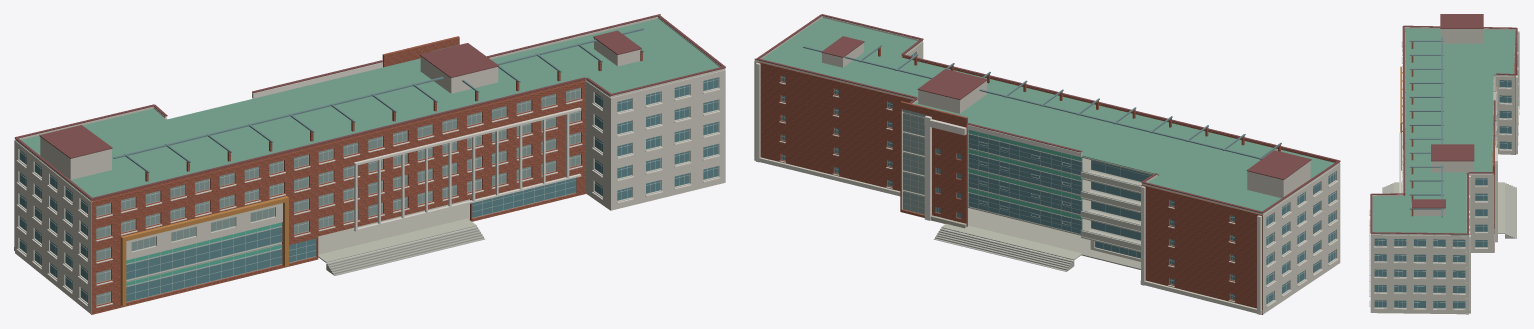
3 renders of one model, left to right at view 1: azimuth 30°, elevation 25°; view 2: azimuth 150°, elevation 25°; view 3: azimuth 270°, elevation 25°, orthographic. The views are drawn at different scales.
Visible parts, largest first — view 1: main__brick, main__roof, main__wall, main__glass, main__sideglass, main__trim, main__frame, main__roofrim, main__slab, main, main__roofbeam, main__orange (+2 smaller); view 2: main__brick, main__roof, main__wall, main__glass, main__roofrim, main__frame, main__slab, main__trim, main__balcony, main__sideglass, main__spandrelglass, main (+2 smaller); view 3: main__roof, main__wall, main__glass, main__roofrim, main__trim, main__frame, main__roofbeam, main, main__brick, main__slab, main__threshold-front, main__balcony (+1 smaller).
Boxes of the visible parts, bbox=[...] form: main__brick: bbox=[91, 36, 642, 314]; main__roof: bbox=[21, 18, 719, 197]; main__wall: bbox=[14, 15, 725, 314]; main__glass: bbox=[19, 77, 718, 302]; main__sideglass: bbox=[96, 45, 580, 304]; main__trim: bbox=[14, 62, 720, 307]; main__frame: bbox=[19, 77, 718, 305]; main__roofrim: bbox=[14, 14, 725, 199]; main__slab: bbox=[126, 79, 586, 286]; main: bbox=[326, 226, 484, 275]; main__roofbeam: bbox=[113, 28, 643, 172]; main__orange: bbox=[120, 196, 288, 306]; main__brick: bbox=[758, 47, 1339, 314]; main__roof: bbox=[756, 18, 1334, 211]; main__wall: bbox=[754, 16, 1340, 314]; main__glass: bbox=[781, 52, 1335, 304]; main__roofrim: bbox=[755, 14, 1340, 213]; main__frame: bbox=[781, 53, 1335, 304]; main__slab: bbox=[756, 56, 1158, 269]; main__trim: bbox=[756, 63, 1338, 314]; main__balcony: bbox=[1080, 171, 1141, 252]; main__sideglass: bbox=[902, 109, 925, 214]; main__spandrelglass: bbox=[968, 129, 1082, 219]; main: bbox=[933, 228, 1074, 271]; main__roof: bbox=[1372, 28, 1515, 236]; main__wall: bbox=[1370, 27, 1519, 314]; main__glass: bbox=[1374, 80, 1511, 308]; main__roofrim: bbox=[1370, 14, 1517, 234]; main__trim: bbox=[1369, 31, 1519, 313]; main__frame: bbox=[1374, 80, 1511, 308]; main__roofbeam: bbox=[1409, 37, 1443, 217]; main: bbox=[1382, 183, 1516, 238]; main__brick: bbox=[1403, 31, 1517, 252]; main__slab: bbox=[1405, 32, 1515, 314]; main__threshold-front: bbox=[1494, 182, 1504, 233]; main__balcony: bbox=[1493, 87, 1497, 147].
Bounding box in the file's own units: 105 × 23.01 × 31.82.
30 materials, 2 textured.
